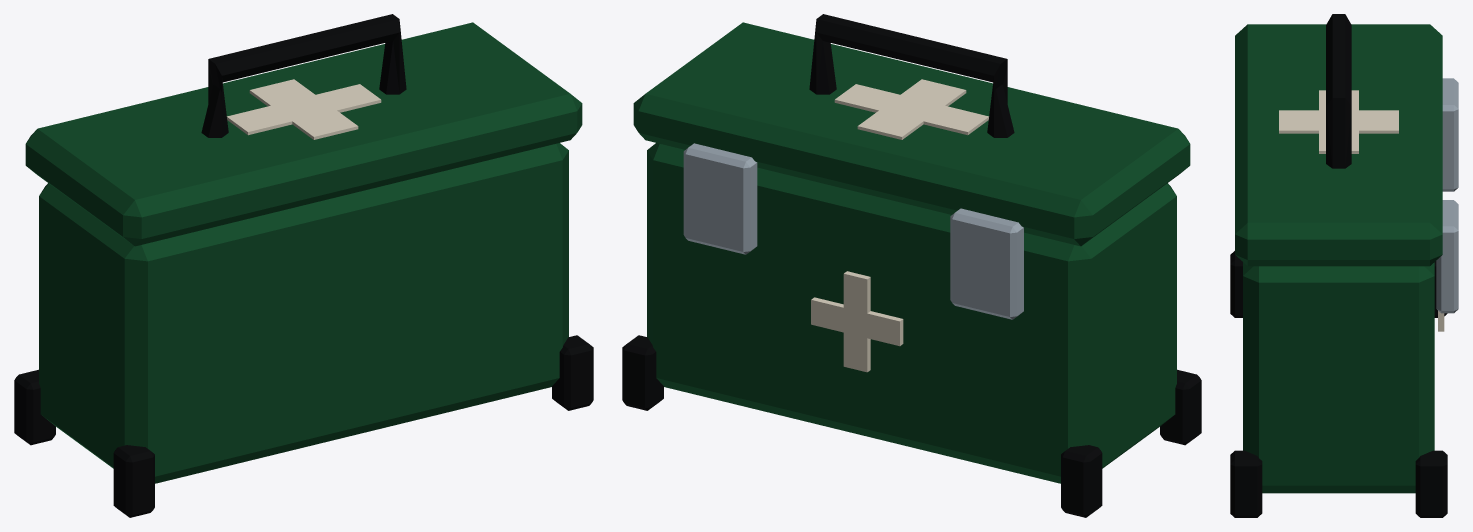
File: ACCESSORY_11_FirstAidKit.obj
The picture shows the model from 3 angles, left to right: view 1: azimuth 30°, elevation 25°; view 2: azimuth 150°, elevation 25°; view 3: azimuth 270°, elevation 25°; orthographic projection. The views are drawn at different scales.
Parts seen in each view (by area): view 1: ACCESSORY_11_FirstAidKit_Case, ACCESSORY_11_FirstAidKit_Lid, ACCESSORY_11_FirstAidKit_Handle, ACCESSORY_11_FirstAidKit_Corner_Guards, ACCESSORY_11_FirstAidKit_Cross; view 2: ACCESSORY_11_FirstAidKit_Case, ACCESSORY_11_FirstAidKit_Lid, ACCESSORY_11_FirstAidKit_Latches, ACCESSORY_11_FirstAidKit_Handle, ACCESSORY_11_FirstAidKit_Corner_Guards, ACCESSORY_11_FirstAidKit_Cross, ACCESSORY_11_FirstAidKit_Cross_Front; view 3: ACCESSORY_11_FirstAidKit_Lid, ACCESSORY_11_FirstAidKit_Case, ACCESSORY_11_FirstAidKit_Corner_Guards, ACCESSORY_11_FirstAidKit_Latches, ACCESSORY_11_FirstAidKit_Handle, ACCESSORY_11_FirstAidKit_Cross.
Part boxes in pixels (x1,y1,x2,y2): ACCESSORY_11_FirstAidKit_Case: (39, 143, 568, 483); ACCESSORY_11_FirstAidKit_Lid: (25, 22, 582, 246); ACCESSORY_11_FirstAidKit_Handle: (201, 14, 406, 137); ACCESSORY_11_FirstAidKit_Corner_Guards: (14, 335, 593, 517); ACCESSORY_11_FirstAidKit_Cross: (227, 79, 381, 139); ACCESSORY_11_FirstAidKit_Case: (647, 143, 1176, 483); ACCESSORY_11_FirstAidKit_Lid: (633, 22, 1190, 246); ACCESSORY_11_FirstAidKit_Latches: (683, 143, 1023, 319); ACCESSORY_11_FirstAidKit_Handle: (809, 14, 1014, 137); ACCESSORY_11_FirstAidKit_Corner_Guards: (622, 335, 1201, 517); ACCESSORY_11_FirstAidKit_Cross: (834, 79, 988, 139); ACCESSORY_11_FirstAidKit_Cross_Front: (811, 271, 903, 372); ACCESSORY_11_FirstAidKit_Lid: (1235, 24, 1442, 266); ACCESSORY_11_FirstAidKit_Case: (1243, 262, 1434, 493); ACCESSORY_11_FirstAidKit_Corner_Guards: (1230, 251, 1447, 517); ACCESSORY_11_FirstAidKit_Latches: (1436, 78, 1458, 313); ACCESSORY_11_FirstAidKit_Handle: (1326, 14, 1351, 168); ACCESSORY_11_FirstAidKit_Cross: (1279, 90, 1398, 153).
Size of the model in its own units: 0.316 by 0.2466 by 0.143.
